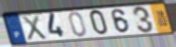0: (89, 8, 111, 38), (68, 11, 88, 38)
3: (132, 5, 155, 34)
4: (48, 11, 68, 40)
6: (110, 9, 131, 35)
X: (20, 14, 49, 42)
